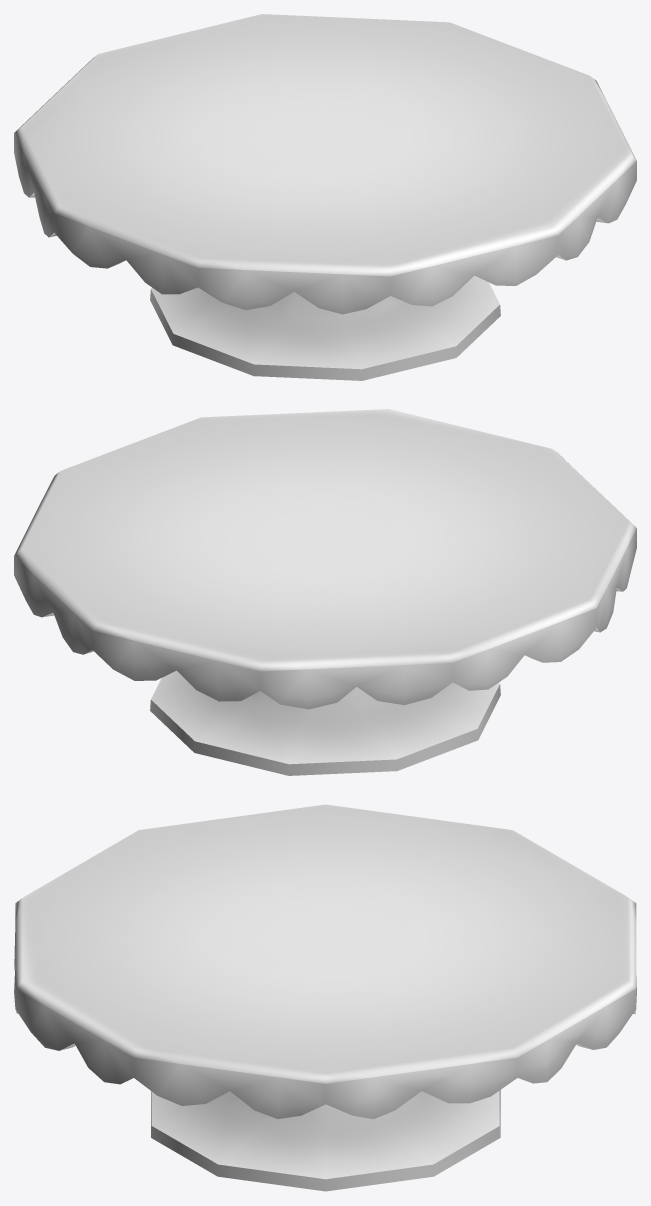
The model's file is Scalloped_Display_Large.fbx.
3 views of the same model, one above another, from view 1: azimuth 30°, elevation 25°; view 2: azimuth 150°, elevation 25°; view 3: azimuth 270°, elevation 25° (orthographic). The views are drawn at different scales.
Parts seen in each view (by area): view 1: Scalloped_Display_Large; view 2: Scalloped_Display_Large; view 3: Scalloped_Display_Large.
Part boxes in pixels (left/top/right/bottom): Scalloped_Display_Large: left=14, top=14, right=636, bottom=380; Scalloped_Display_Large: left=14, top=409, right=636, bottom=775; Scalloped_Display_Large: left=14, top=804, right=636, bottom=1191.
Bounding box in the file's own units: 105 × 30.94 × 99.9.
